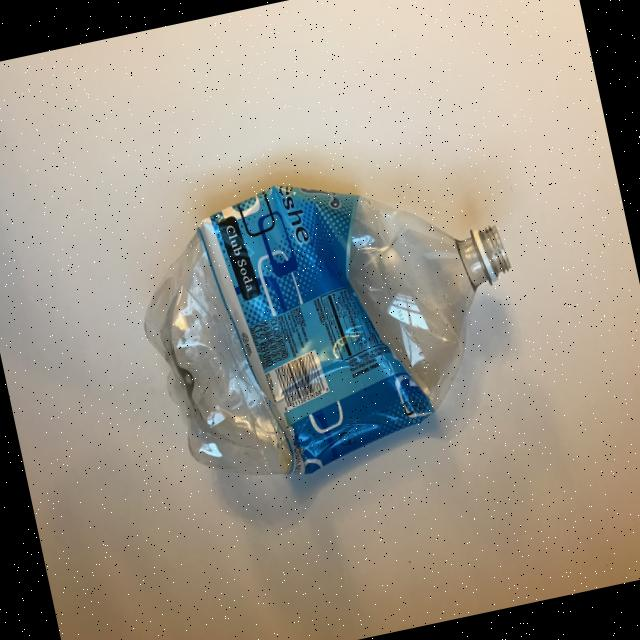plastic: (120, 139, 544, 501)
